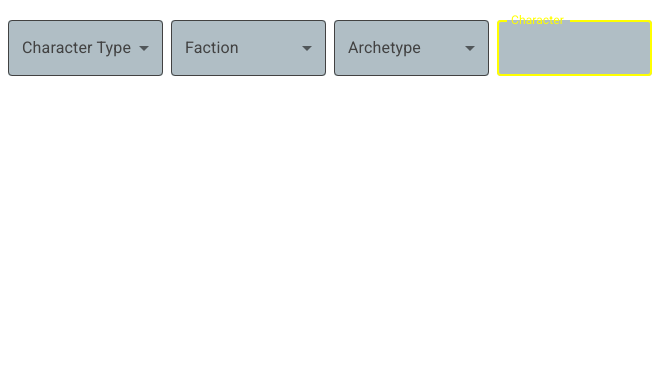
Test case: CharacterFilters Component › character type filter › should display all character type options
Press the mouse on the dropdown named "Character Type" next to "Character Type": (86, 48) [8,20,163,76]
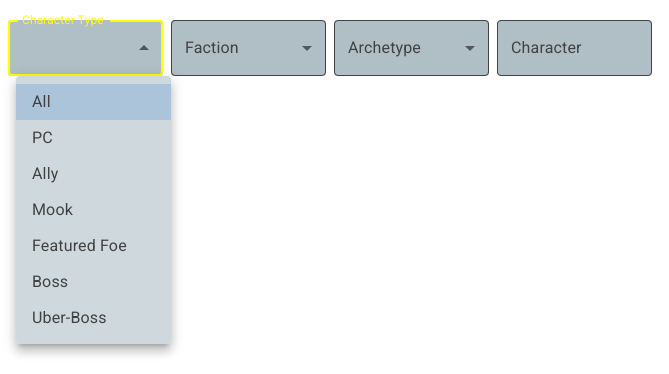
Check: the option "All" is shown, box [16,84,171,120]
Check: the option "PC" is shown, box [32,128,53,147]
Check: the option "Ally" is shown, box [32,164,58,183]
